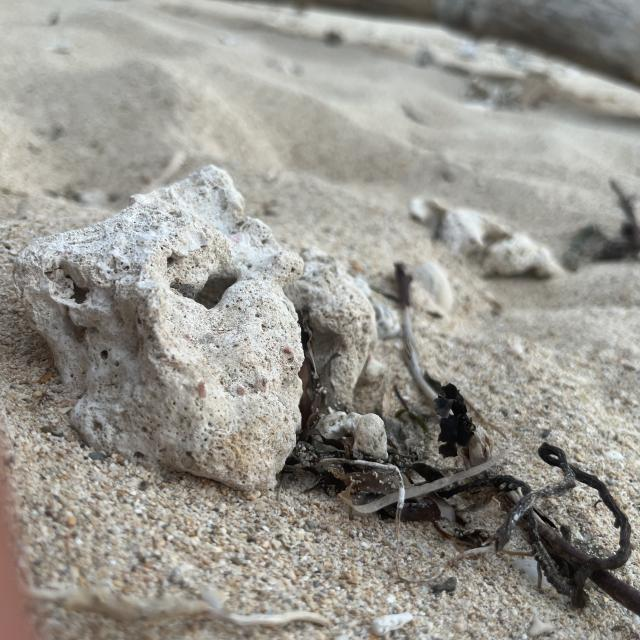rock: (14, 163, 399, 504)
